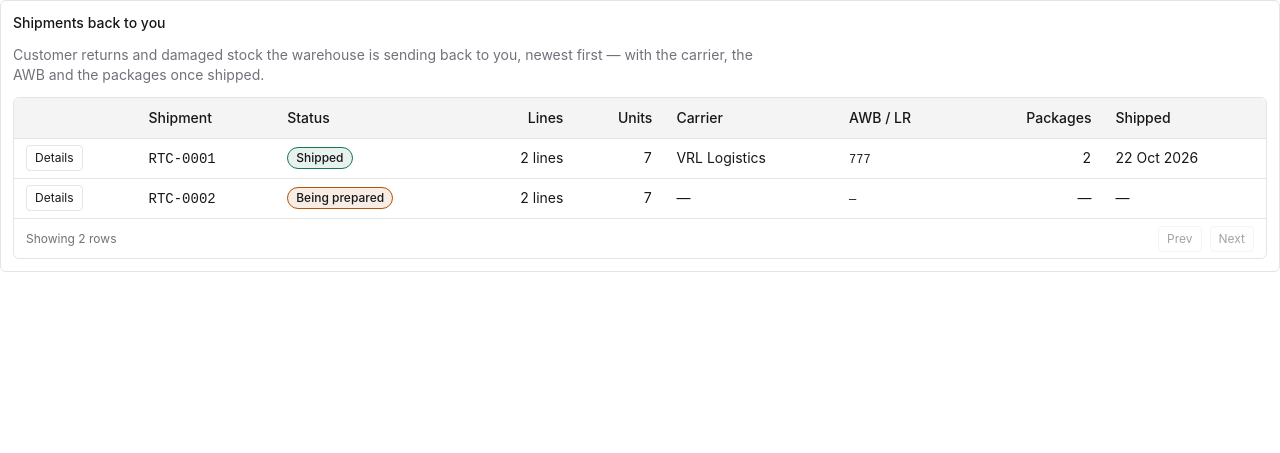
Test case: Shipments back to you › lists the client’s RTCs in its words, expands to the shipment, and offers no print or write
The width and height of the screenshot is (1280, 453).
Check: the heading "Shipments back to you" is shown, box [13, 13, 166, 33]
Check: the text with test id "portal-rtc-status-RTC-0001" reads "Shipped", box [296, 150, 344, 165]
Click the button with aria-label "Show the details of RTC-0001" at (54, 158), box [26, 145, 82, 171]
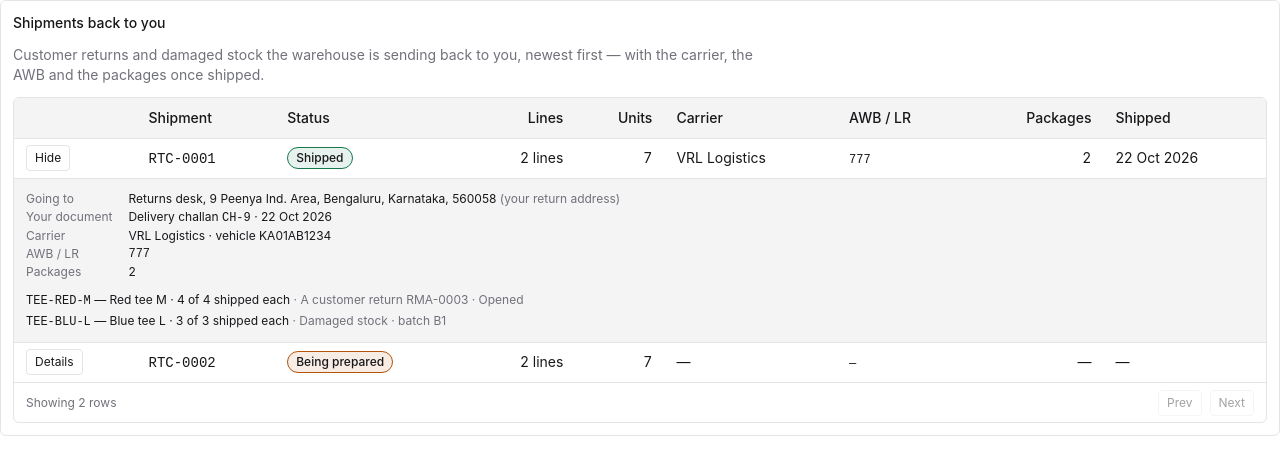
Check: the element with test id "portal-client-return-detail" shows "9 Peenya Ind. Area", box [128, 190, 496, 206]
Check: the element with test id "portal-client-return-detail" shows "your return address", box [504, 190, 616, 206]
Check: the element with test id "portal-client-return-detail" shows "Delivery challan", box [128, 208, 218, 224]
